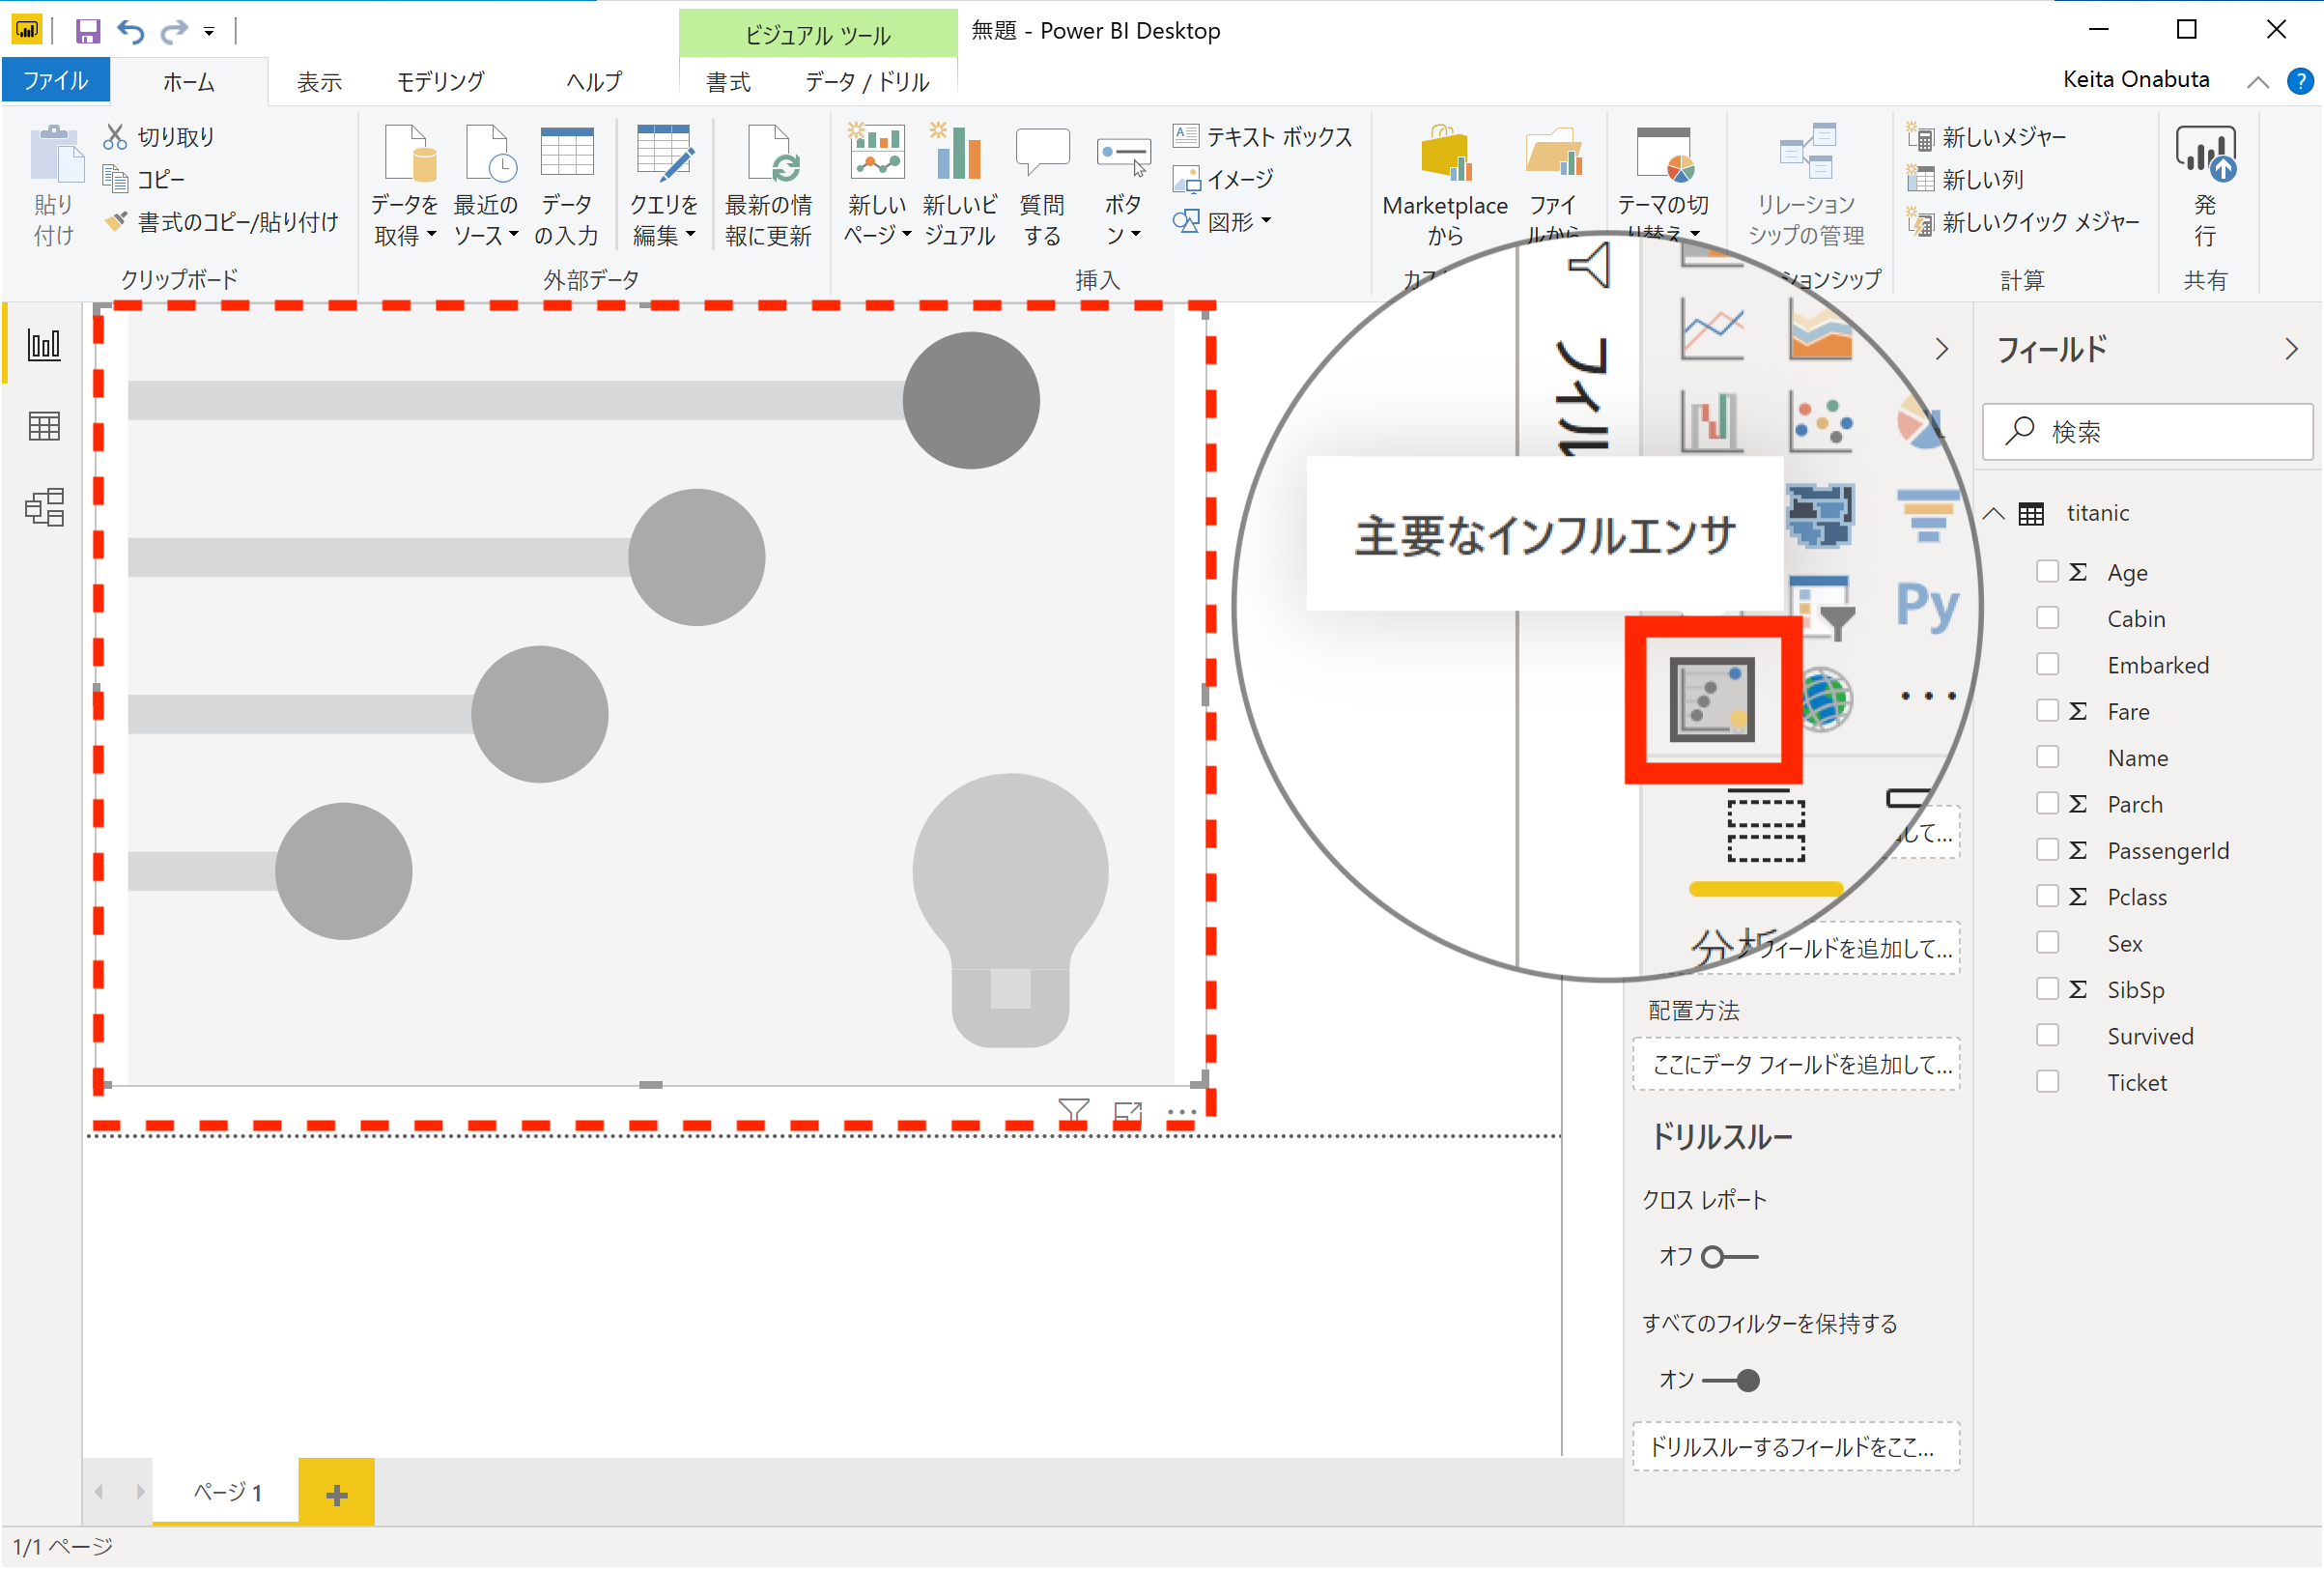

This screenshot's page, from the dashboard's own definition file:
{"tool":"powerbi","page":{"name":"titanic key-influencers","canvas":[1280,720],"ordinal":0},"visuals":[{"type":"keyDriversVisual","fields":{"Target":["titanic.Survived"],"ExplainBy":["titanic.Age","titanic.Cabin","titanic.Embarked","titanic.Fare","titanic.Parch","Sum(titanic.Pclass)","titanic.Sex","titanic.Ticket"]},"box":[0,0,1280,687.9],"z":1}]}

Visuals, with their boxes on the page's 1280x720 design canvas (x1, y1, x2, y2). These are canvas units, not pixel positions in the 2324x1569 screenshot, which may show the page scaled, cropped or inside an application window:
keyDriversVisual - titanic.Survived x titanic.Age: select_region(0, 0, 1280, 688)
